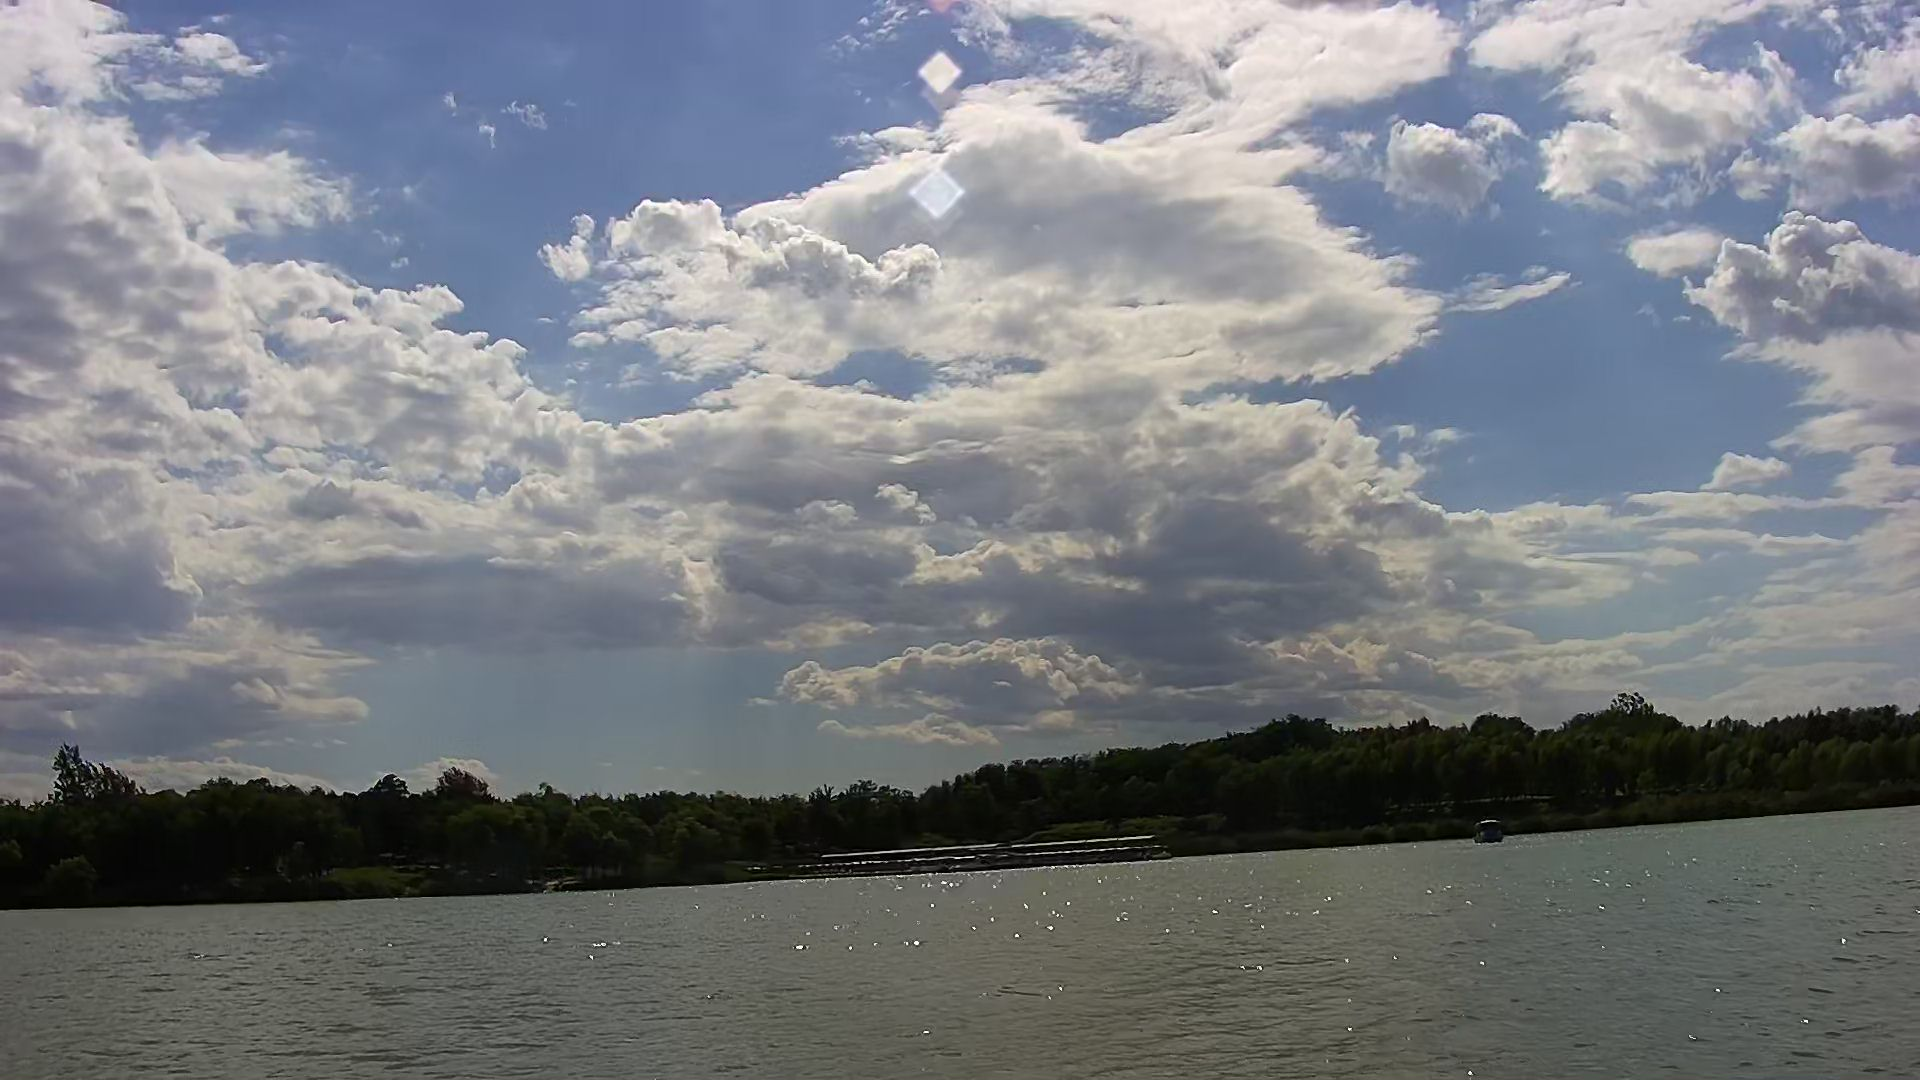boat: (1473, 808, 1510, 851)
harbor: (804, 828, 1167, 876)
